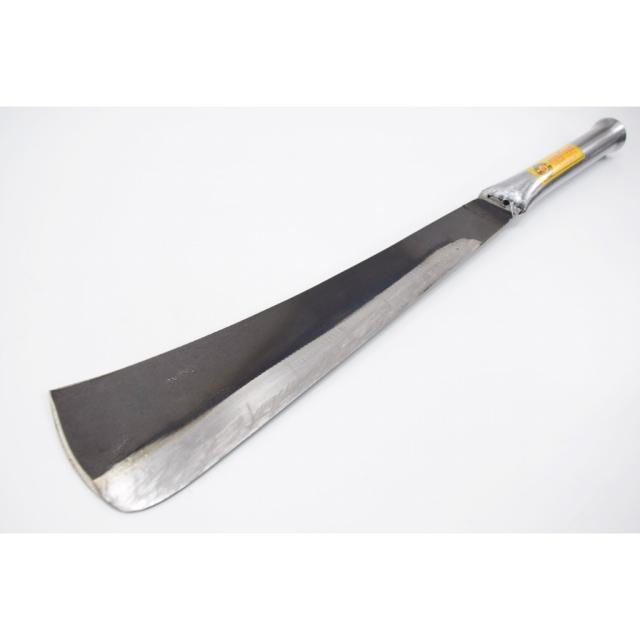eto: (42, 110, 634, 524)
